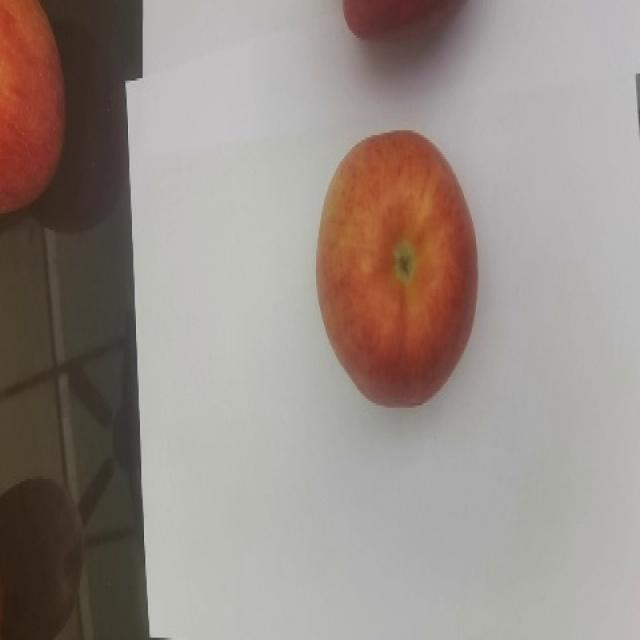Apple: (315, 128, 478, 408), (0, 0, 67, 215)
